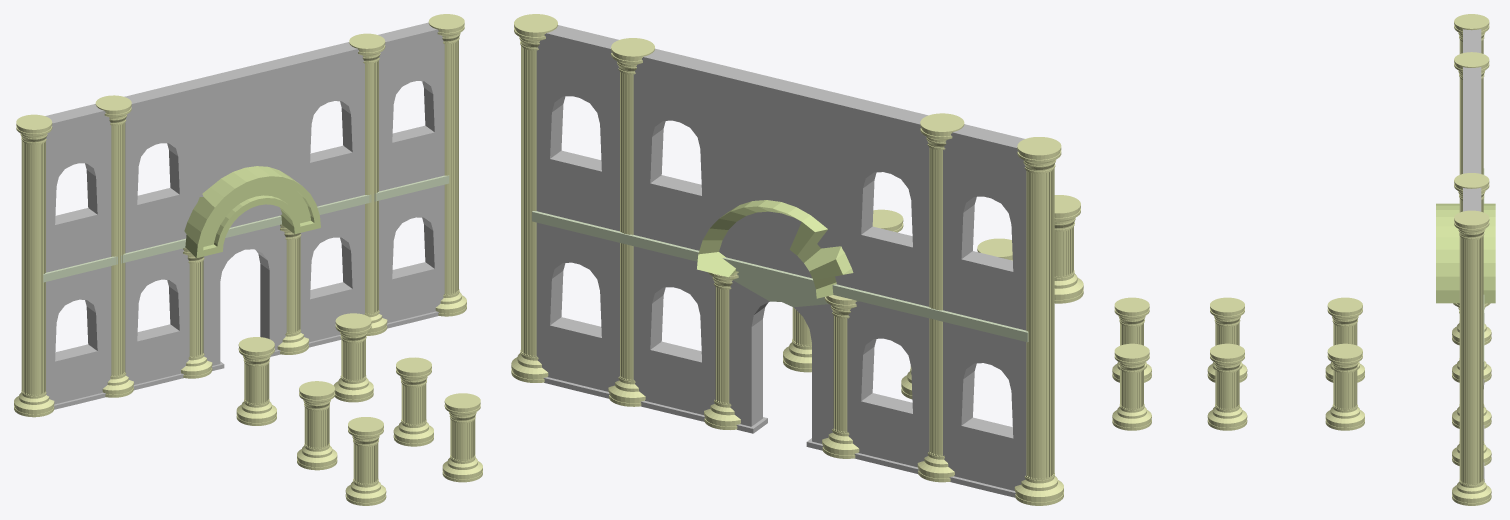
Rendered from wall.fbx.
3 views of the same model, side by side, from view 1: azimuth 30°, elevation 25°; view 2: azimuth 150°, elevation 25°; view 3: azimuth 270°, elevation 25° (orthographic). The views are drawn at different scales.
Parts seen in each view (by area): view 1: 平面, 柱体.002, 圆环; view 2: 平面, 柱体.002, 圆环; view 3: 柱体.002, 圆环, 平面.
Boxes of the visible parts, x1,y1,x2,y2 form: 平面: (43, 22, 449, 409); 柱体.002: (14, 14, 482, 505); 圆环: (184, 166, 320, 258); 平面: (532, 25, 1028, 497); 柱体.002: (511, 14, 1083, 505); 圆环: (697, 200, 853, 298); 柱体.002: (1112, 14, 1491, 505); 圆环: (1436, 203, 1495, 303); 平面: (1463, 29, 1484, 481).
Bounding box in the file's own units: 1090 × 667 × 828.
